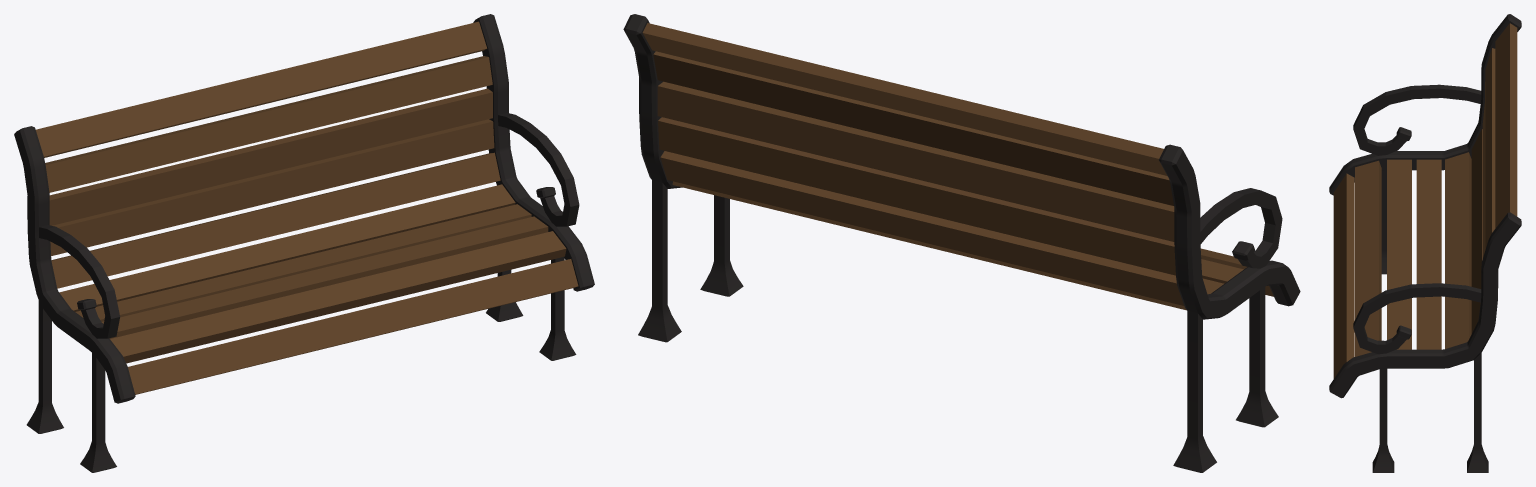
Rendered from Bench1.fbx.
3 views of the same model, side by side, from view 1: azimuth 30°, elevation 25°; view 2: azimuth 150°, elevation 25°; view 3: azimuth 270°, elevation 25° (orthographic). The views are drawn at different scales.
Visible parts, largest first — view 1: Bench1:Bench1:Bench; view 2: Bench1:Bench1:Bench; view 3: Bench1:Bench1:Bench.
Part boxes in pixels (box(x1,y1,x2,y2)): Bench1:Bench1:Bench: box(14, 14, 594, 472); Bench1:Bench1:Bench: box(623, 14, 1300, 472); Bench1:Bench1:Bench: box(1329, 14, 1521, 472).
Bounding box in the file's own units: 1.9 × 1.08 × 0.7382.
